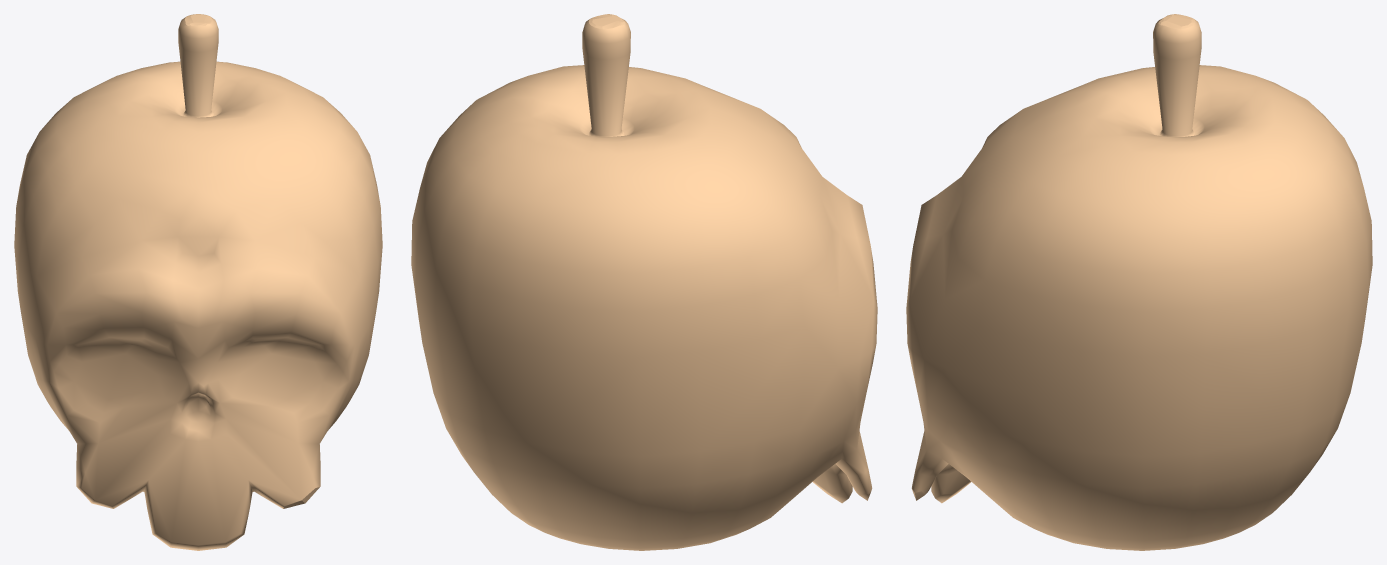
File: Toy116.fbx
3 views of the same model, side by side, from view 1: azimuth 30°, elevation 25°; view 2: azimuth 150°, elevation 25°; view 3: azimuth 270°, elevation 25° (orthographic). The views are drawn at different scales.
Visible parts, largest first — view 1: Toy116; view 2: Toy116; view 3: Toy116.
Part boxes in pixels (box(x1,y1,x2,y2)): Toy116: box(14, 14, 382, 550); Toy116: box(411, 14, 877, 550); Toy116: box(906, 14, 1372, 550).
Bounding box in the file's own units: 0.1241 × 0.1544 × 0.1238.
